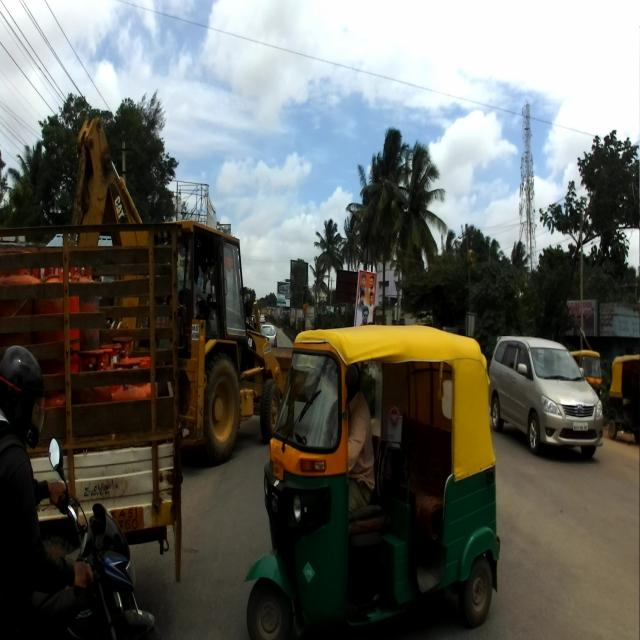Car_Toyota: (488, 334, 604, 461)
autorickshaw: (243, 326, 500, 640)
motorcycle_Hero: (39, 430, 153, 632)
